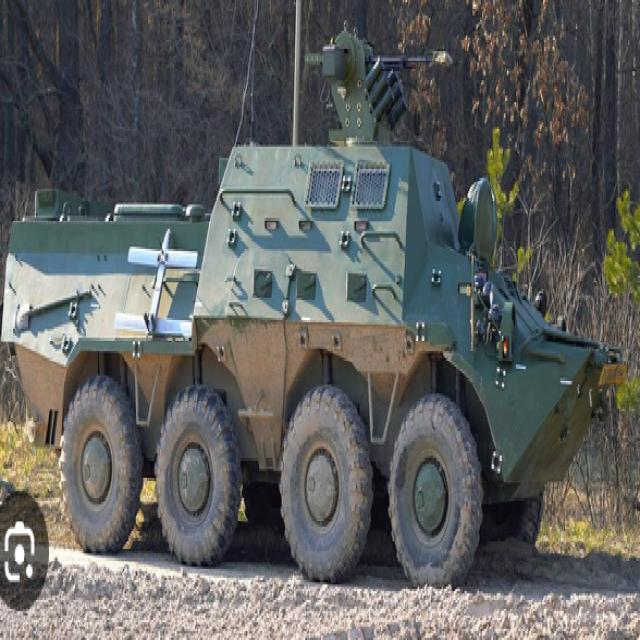MIL_APC: (2, 101, 620, 595)
